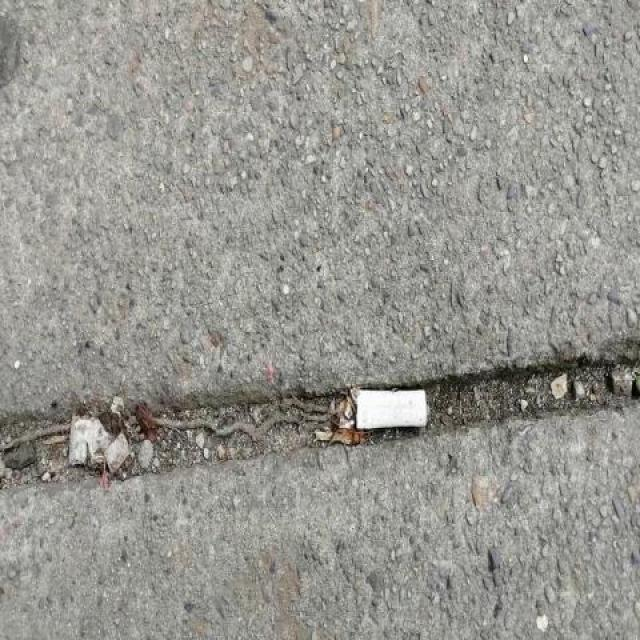non-organic waste: (349, 383, 432, 433)
